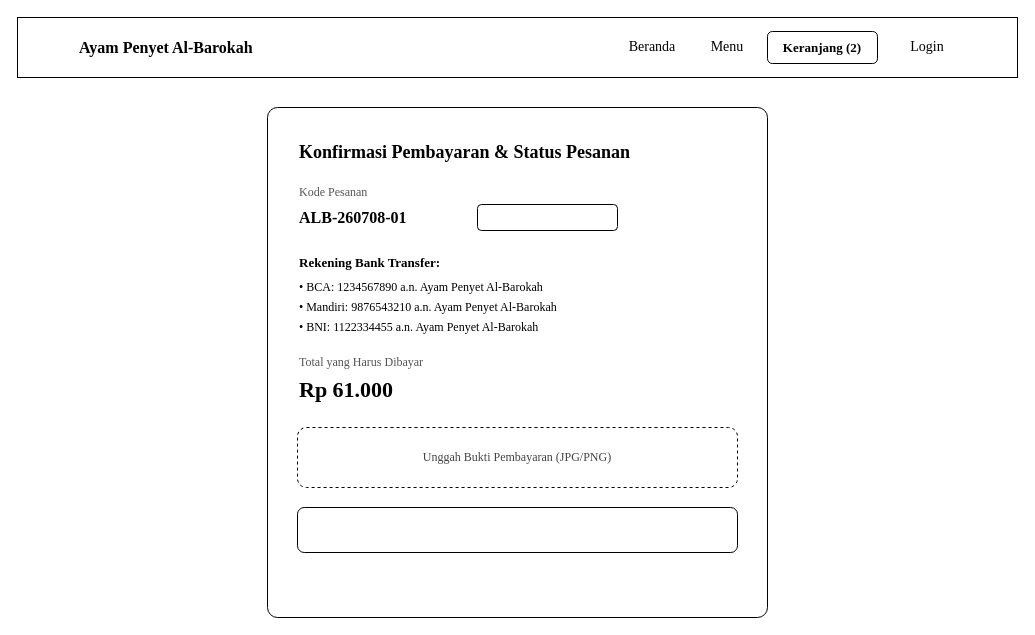
Image size: 1035x635. Some labels were removed from this diagram. The shapes that lost their labels are listed below. From the top down, each one's centre as x and y in pixels, then its label:
pixel 547 217: Menunggu Pembayaran
pixel 517 529: Unggah Bukti
